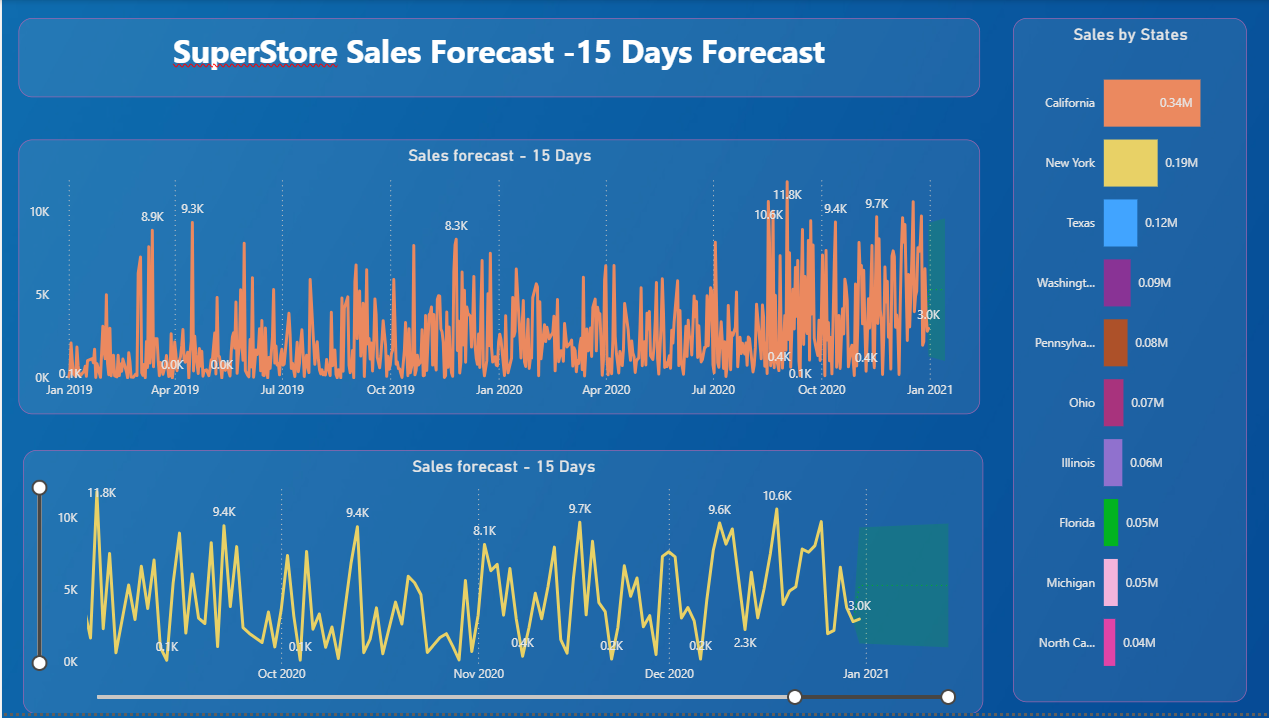

What the dashboard file says about the page in this screenshot:
{"tool":"powerbi","page":{"name":"Forecasting","canvas":[1280,720],"ordinal":1},"visuals":[{"type":"lineChart","title":"Sales forecast - 15 Days","fields":{"Y":["Sum(SuperStore_Sales_Dataset.Sales)"],"Category":["SuperStore_Sales_Dataset.Order Date"]},"box":[16.7,140.8,970.6,277.1],"z":0},{"type":"lineChart","title":"Sales forecast - 15 Days","fields":{"Y":["Sum(SuperStore_Sales_Dataset.Sales)"],"Category":["SuperStore_Sales_Dataset.Order Date"]},"box":[20.8,453.5,969.5,266.5],"z":1000},{"type":"textbox","box":[16.7,0,970.6,98.4],"z":2000},{"type":"clusteredBarChart","title":"Sales by States","fields":{"Y":["Sum(SuperStore_Sales_Dataset.Sales)"],"Category":["SuperStore_Sales_Dataset.State"]},"box":[1020.6,18.2,236.2,690.5],"z":3000}]}

Visuals, with their boxes in screenshot pixels (x1, y1, x2, y2), scaled from the page's 1280x720 canvas onto the 1269x718 screenshot:
"Sales forecast - 15 Days" lineChart: crop(17, 140, 979, 417)
"Sales forecast - 15 Days" lineChart: crop(21, 452, 982, 717)
textbox: crop(17, 0, 979, 98)
"Sales by States" clusteredBarChart: crop(1012, 18, 1246, 707)
